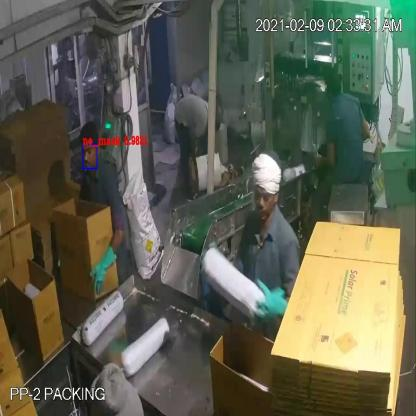glove: (248, 269, 292, 342), (86, 233, 119, 299)
no_glove: (184, 121, 205, 195), (311, 131, 338, 172)
